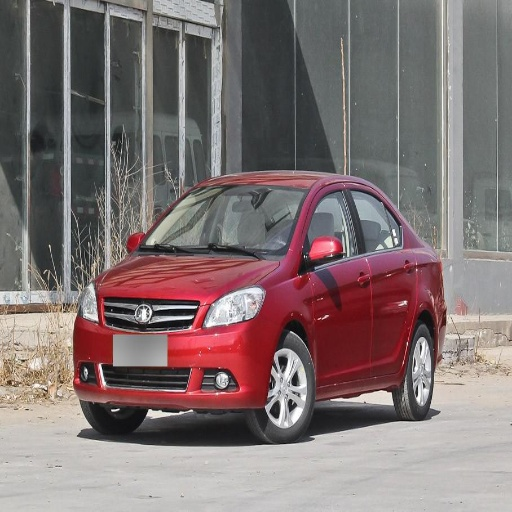front_bumper: (75, 288, 280, 406)
front_glass: (137, 184, 306, 257)
front_left_door: (302, 182, 371, 383)
